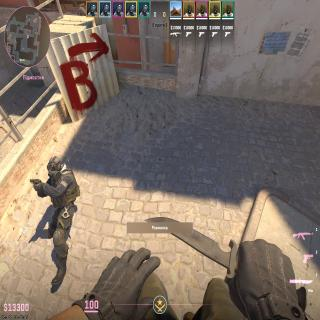CT-Body: (36, 156, 80, 287)
CT-Head: (46, 156, 62, 182)
